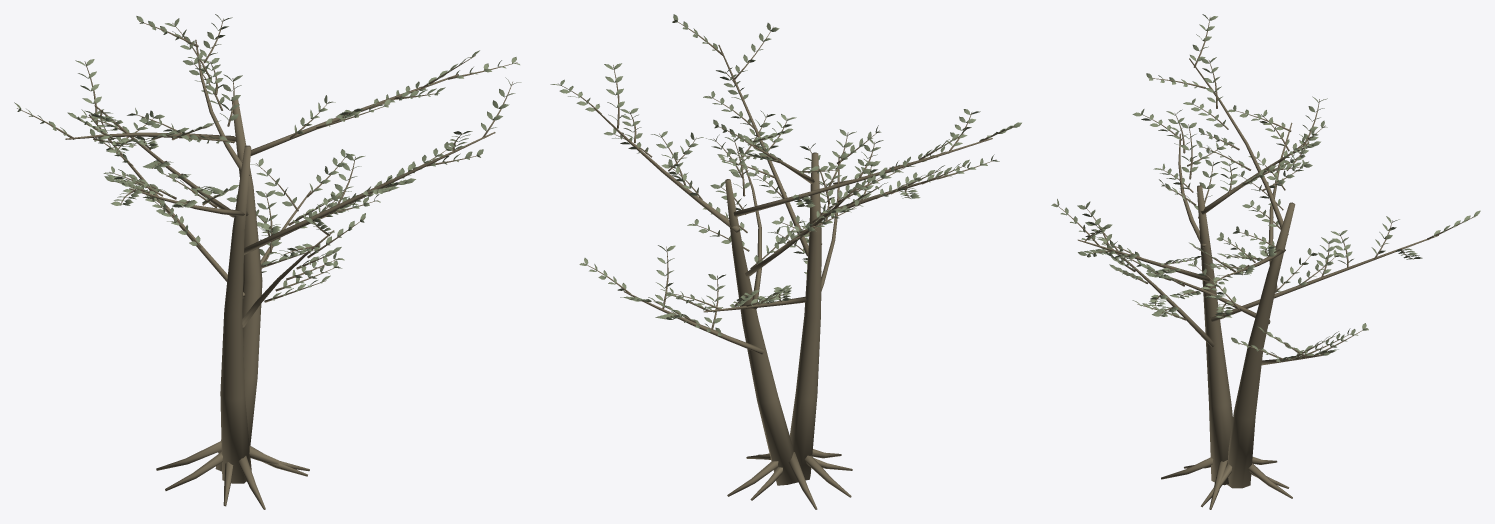
The model's file is Oleastre_0_LOD0.fbx.
The picture shows the model from 3 angles, left to right: view 1: azimuth 30°, elevation 25°; view 2: azimuth 150°, elevation 25°; view 3: azimuth 270°, elevation 25°; orthographic projection. The views are drawn at different scales.
Visible parts, largest first — view 1: Oleastre_0_LOD0; view 2: Oleastre_0_LOD0; view 3: Oleastre_0_LOD0.
Boxes of the visible parts, x1,y1,x2,y2 form: Oleastre_0_LOD0: (14,14,521,509); Oleastre_0_LOD0: (550,14,1021,509); Oleastre_0_LOD0: (1051,14,1480,509).
Bounding box in the file's own units: 455 × 374 × 391.
